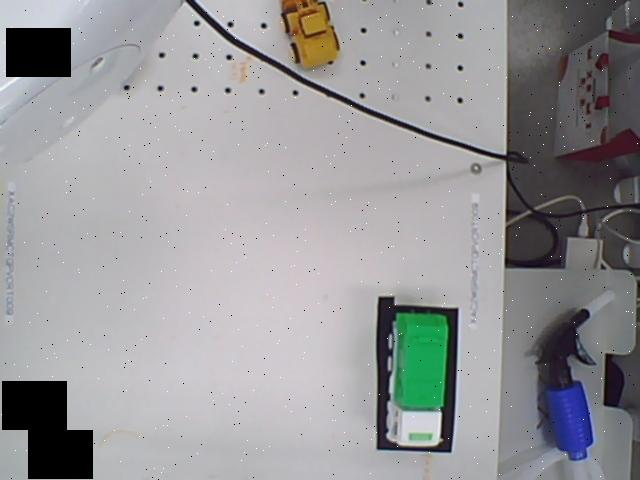Electric car: (380, 308, 447, 453)
Gasoline car: (277, 0, 348, 73)
